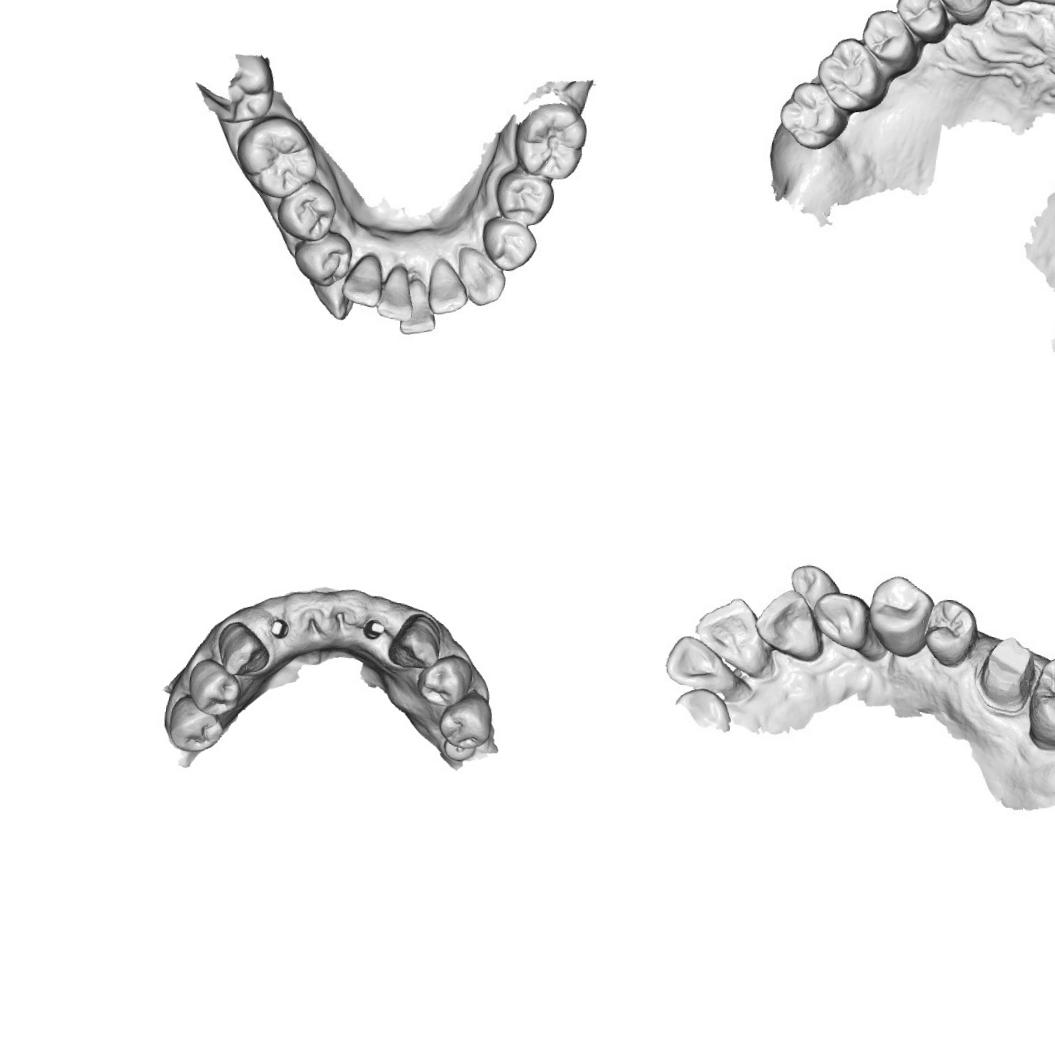abutment: (359, 617, 388, 642), (267, 615, 292, 639)
canine: (813, 586, 880, 654), (384, 608, 444, 674), (452, 245, 513, 309), (213, 620, 276, 679), (310, 272, 355, 325), (926, 0, 994, 28)
crown: (979, 636, 1034, 712)
incisor: (690, 591, 770, 677), (663, 629, 750, 696), (759, 582, 826, 668), (394, 276, 439, 344), (426, 258, 471, 320), (786, 554, 840, 605), (338, 250, 383, 310), (375, 267, 419, 321)
molar: (233, 108, 320, 202), (810, 33, 892, 116), (512, 95, 588, 176), (774, 76, 848, 154), (1020, 650, 1055, 754)
premolar: (866, 571, 931, 660), (290, 225, 358, 293), (856, 5, 920, 75), (276, 179, 341, 244), (435, 686, 495, 753), (924, 596, 978, 668), (166, 692, 226, 754), (184, 656, 244, 718), (495, 167, 556, 226), (414, 651, 475, 709), (480, 219, 538, 272), (891, 0, 954, 47)
